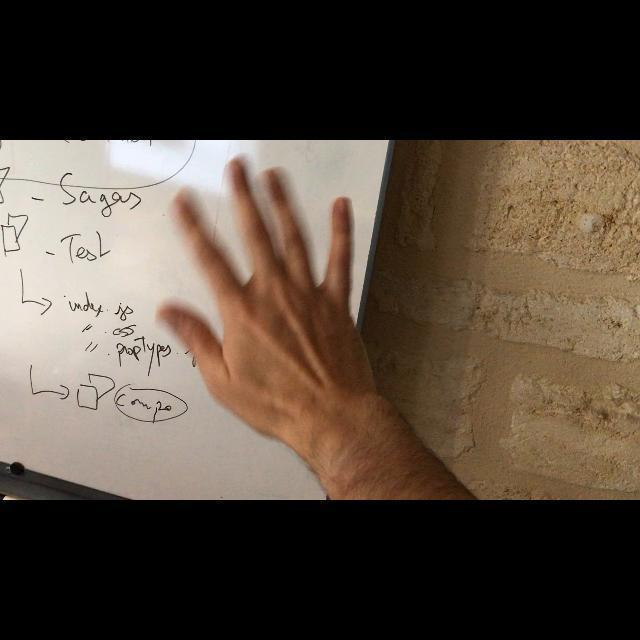bare_hand: (158, 155, 373, 427)
